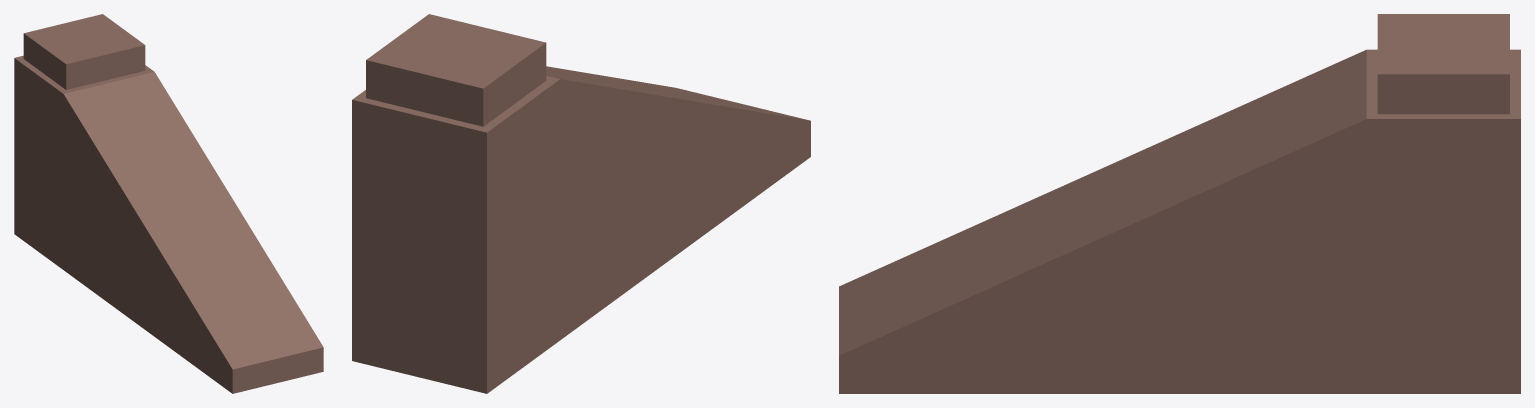
The model's file is Lego_Part_17.fbx.
3 views of the same model, side by side, from view 1: azimuth 30°, elevation 25°; view 2: azimuth 150°, elevation 25°; view 3: azimuth 270°, elevation 25° (orthographic). The views are drawn at different scales.
Visible parts, largest first — view 1: Lego_Part_17; view 2: Lego_Part_17; view 3: Lego_Part_17.
Boxes of the visible parts, <box> form: Lego_Part_17: <box>14,14,323,393</box>; Lego_Part_17: <box>352,14,810,393</box>; Lego_Part_17: <box>839,14,1520,393</box>.
Bounding box in the file's own units: 1.55 × 3.28 × 6.43.
1 material, 1 textured.
